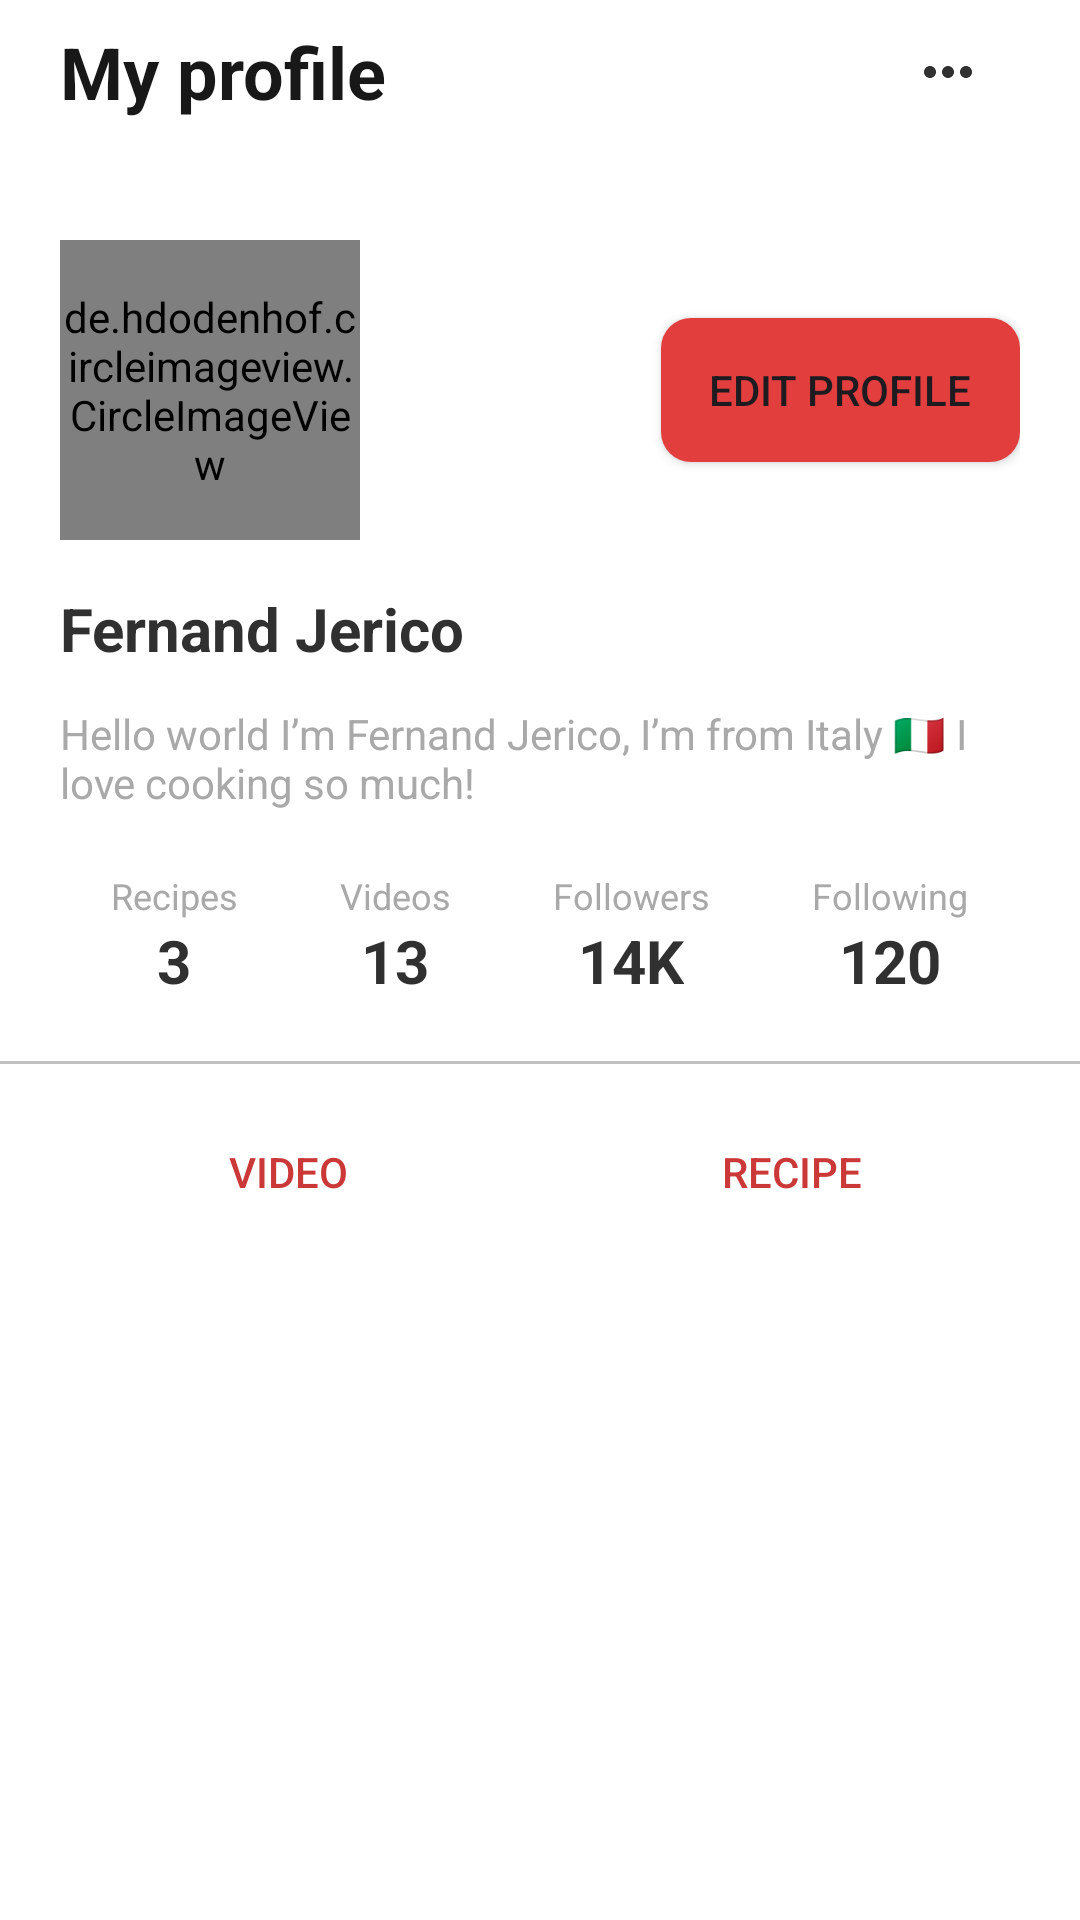

Screen size 1080px x 1920px. Icon name, then its box in pixels as region(x1, y1, x2, y2):
icon more: region(924, 66, 972, 78)
